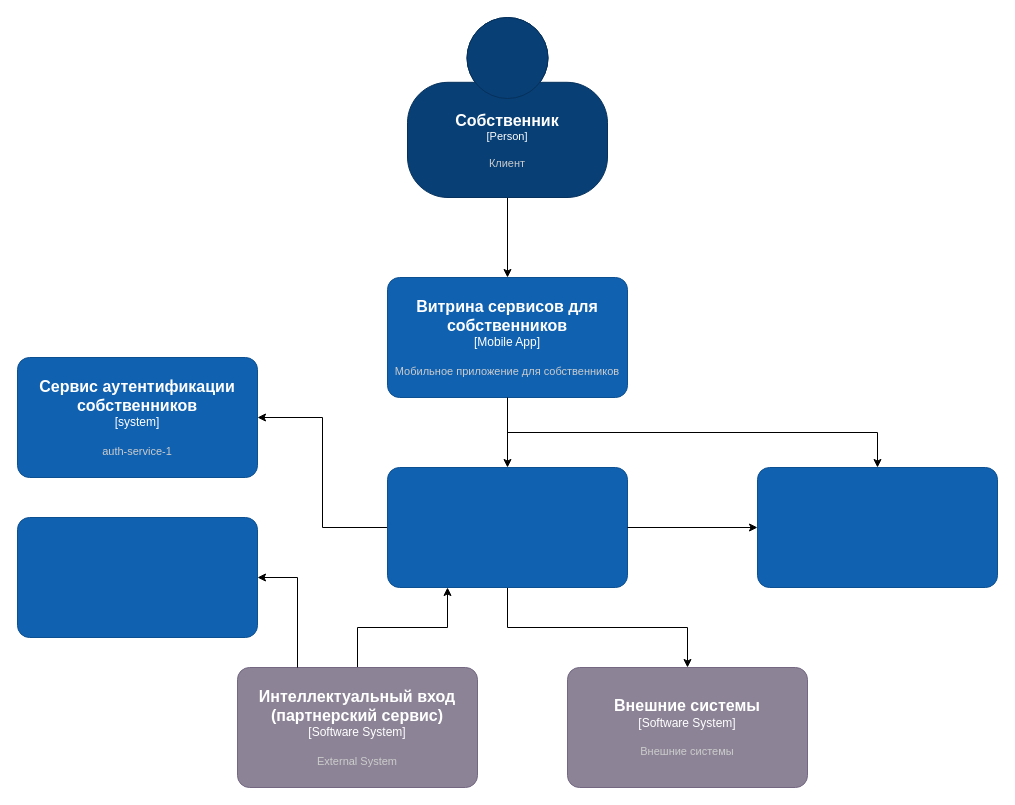
Image size: 1015x805. Some labels were removed from this diagram. The box of each missing label's shape, as (x1, y1, x2, y2) in pixels:
Приложение для предоставления услуг собственникам [system] tenant-core-app: (386, 466, 628, 588)
Сервис аутентификации внешних провайдеров [system] auth-service-2: (16, 516, 258, 638)
Система управления данными собственников [system] CRM: (756, 466, 998, 588)
